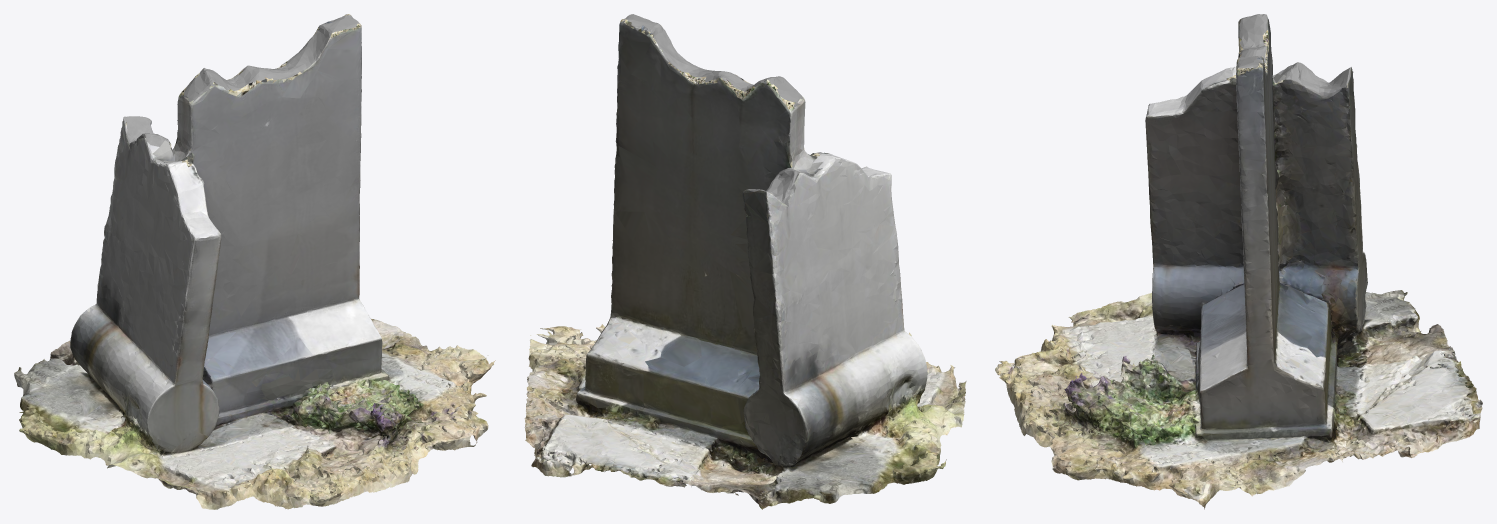
The picture shows the model from 3 angles, left to right: view 1: azimuth 30°, elevation 25°; view 2: azimuth 150°, elevation 25°; view 3: azimuth 270°, elevation 25°; orthographic projection. The views are drawn at different scales.
Visible parts, largest first — view 1: 1k.25k; view 2: 1k.25k; view 3: 1k.25k.
Part boxes in pixels (bbox=[...]): 1k.25k: bbox=[14, 14, 495, 509]; 1k.25k: bbox=[524, 14, 966, 509]; 1k.25k: bbox=[995, 14, 1482, 509].
Bounding box in the file's own units: 4.28 × 3.54 × 3.92.
Materials: 1 (1 with a texture image).
